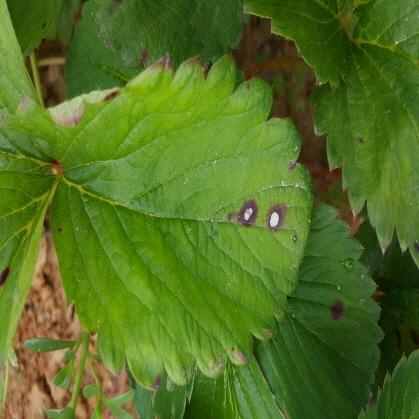Leaf Spot: (49, 49, 314, 391), (306, 0, 418, 266), (253, 202, 385, 418), (0, 150, 60, 409), (90, 0, 245, 75), (1, 88, 123, 160), (4, 0, 81, 57), (357, 349, 418, 418)
